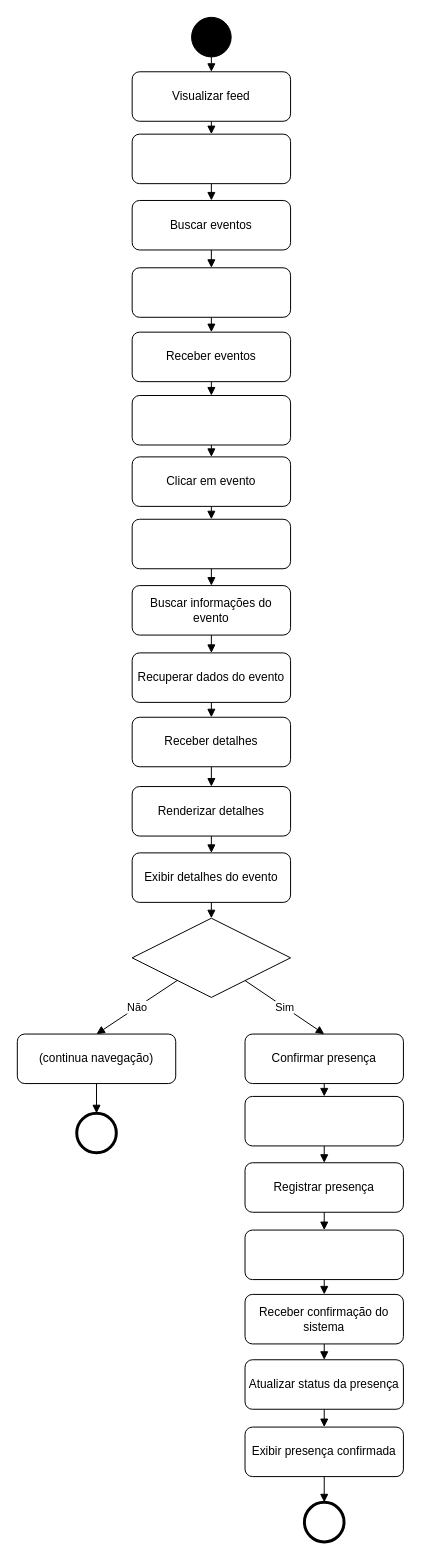
Some shapes in this 421 by 1560 pixel diagram are drawn without their labels. Each missing label, with the centre of its shape:
Enviar confirmação: the point at 323,1120
Exibir eventos no feed: the point at 211,420
Recuperar lista de eventos: the point at 211,292
Salvar presença no evento: the point at 323,1254
Solicitar detalhes do evento: the point at 211,543
Solicitar feed: the point at 211,158
Usuário deseja confirmar presença?: the point at 211,957
